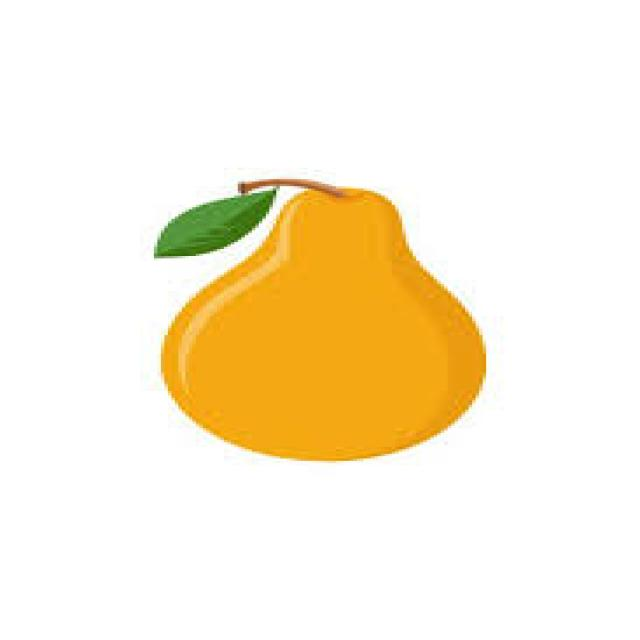Organik: (155, 176, 492, 456)
